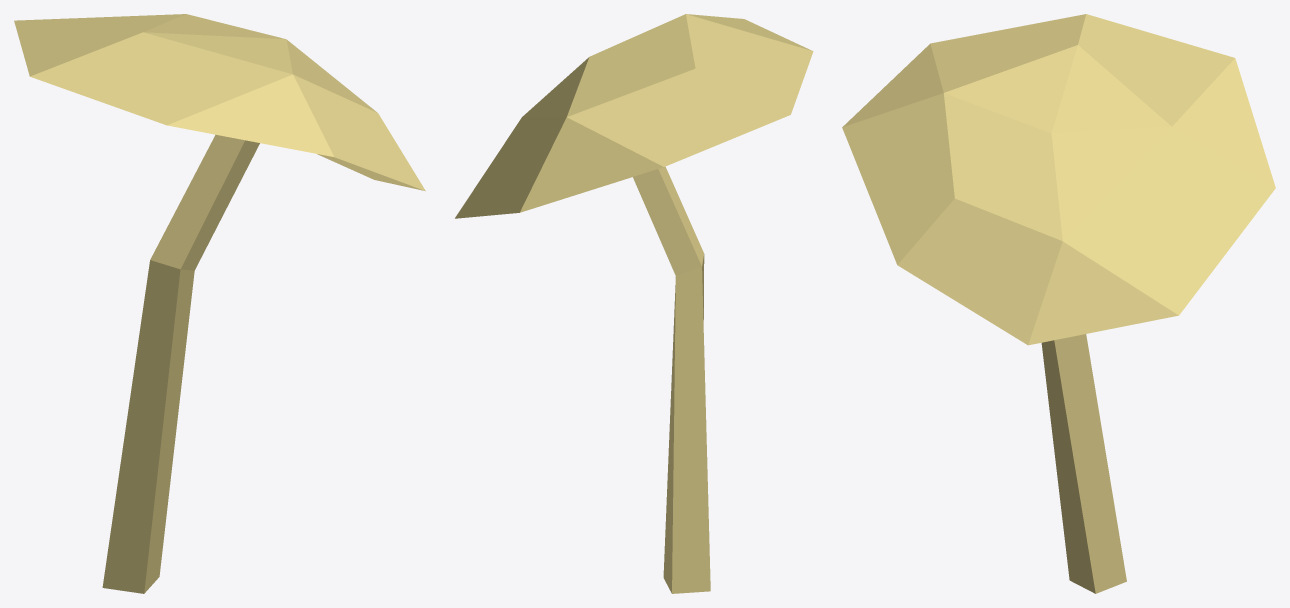
Rendered from Mushroom_h_03.fbx.
3 renders of one model, left to right at view 1: azimuth 30°, elevation 25°; view 2: azimuth 150°, elevation 25°; view 3: azimuth 270°, elevation 25°, orthographic. The views are drawn at different scales.
Visible parts, largest first — view 1: Mushroom_h_03; view 2: Mushroom_h_03; view 3: Mushroom_h_03.
Boxes of the visible parts, x1,y1,x2,y2 form: Mushroom_h_03: [14, 14, 425, 593]; Mushroom_h_03: [455, 14, 813, 593]; Mushroom_h_03: [842, 14, 1275, 593].
Size of the model in its own units: 13.97 by 21.02 by 15.39.
